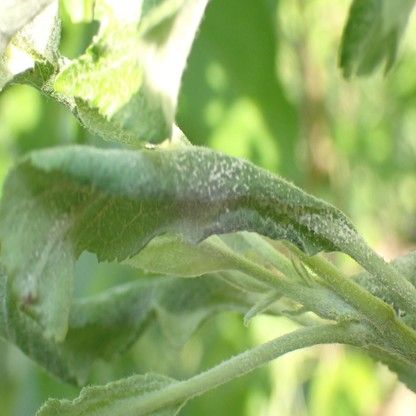powdery_mildew: (1, 146, 357, 342), (1, 3, 205, 142), (35, 372, 181, 416)
